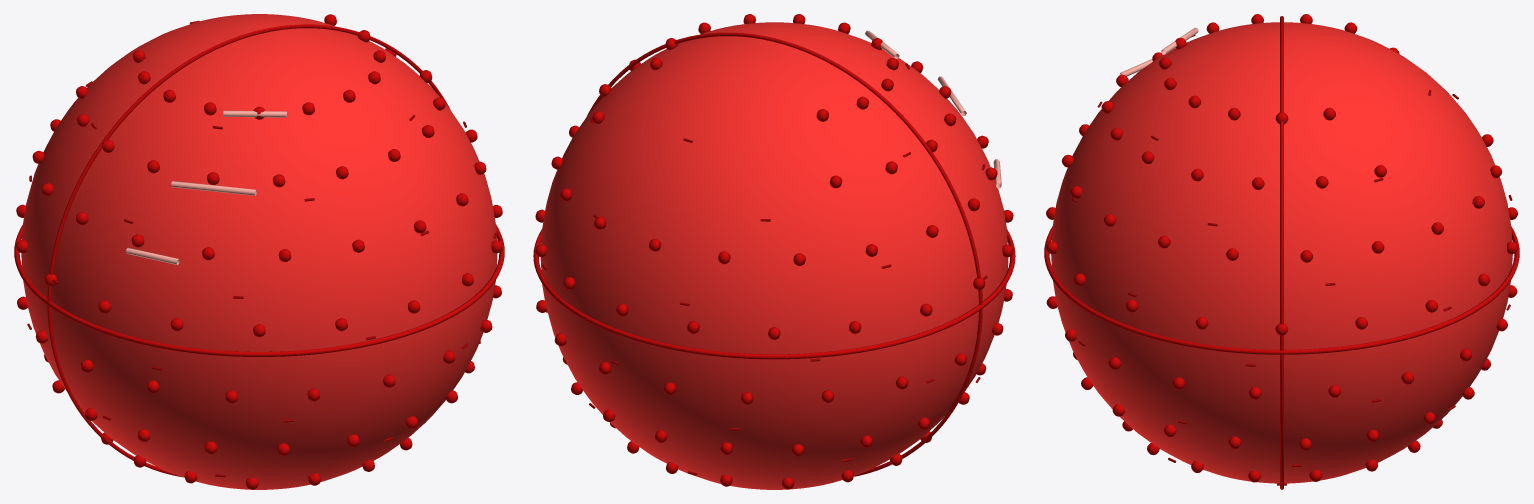
The model's file is softball_rot_3D_v2.glb.
The picture shows the model from 3 angles, left to right: view 1: azimuth 30°, elevation 25°; view 2: azimuth 150°, elevation 25°; view 3: azimuth 270°, elevation 25°; orthographic projection. The views are drawn at different scales.
Parts seen in each view (by area): view 1: softball_rot_3D_v2__web_red_smooth_foam_softball_body, softball_rot_3D_v2__web_red_subtle_pebbled_softball_surface, softball_rot_3D_v2__web_v2_extra_red_softball_molded_equator, softball_rot_3D_v2__web_red_glossy_softball_highlight_patche, softball_rot_3D_v2__web_v2_extra_red_softball_pore_shadows; view 2: softball_rot_3D_v2__web_red_smooth_foam_softball_body, softball_rot_3D_v2__web_red_subtle_pebbled_softball_surface, softball_rot_3D_v2__web_v2_extra_red_softball_molded_equator, softball_rot_3D_v2__web_red_glossy_softball_highlight_patche; view 3: softball_rot_3D_v2__web_red_smooth_foam_softball_body, softball_rot_3D_v2__web_red_subtle_pebbled_softball_surface, softball_rot_3D_v2__web_v2_extra_red_softball_molded_equator, softball_rot_3D_v2__web_v2_extra_red_softball_pore_shadows.
Boxes of the visible parts, bbox=[...] form: softball_rot_3D_v2__web_red_smooth_foam_softball_body: bbox=[21, 14, 497, 489]; softball_rot_3D_v2__web_red_subtle_pebbled_softball_surface: bbox=[16, 14, 502, 489]; softball_rot_3D_v2__web_v2_extra_red_softball_molded_equator: bbox=[14, 24, 504, 477]; softball_rot_3D_v2__web_red_glossy_softball_highlight_patche: bbox=[126, 110, 286, 264]; softball_rot_3D_v2__web_v2_extra_red_softball_pore_shadows: bbox=[27, 20, 497, 477]; softball_rot_3D_v2__web_red_smooth_foam_softball_body: bbox=[540, 22, 1008, 489]; softball_rot_3D_v2__web_red_subtle_pebbled_softball_surface: bbox=[535, 14, 1013, 489]; softball_rot_3D_v2__web_v2_extra_red_softball_molded_equator: bbox=[533, 32, 1015, 476]; softball_rot_3D_v2__web_red_glossy_softball_highlight_patche: bbox=[865, 30, 1001, 188]; softball_rot_3D_v2__web_red_smooth_foam_softball_body: bbox=[1051, 22, 1512, 483]; softball_rot_3D_v2__web_red_subtle_pebbled_softball_surface: bbox=[1046, 14, 1517, 482]; softball_rot_3D_v2__web_v2_extra_red_softball_molded_equator: bbox=[1044, 16, 1519, 489]; softball_rot_3D_v2__web_v2_extra_red_softball_pore_shadows: bbox=[1045, 35, 1512, 485].
Bounding box in the file's own units: 0.3424 × 0.3388 × 0.3398.
